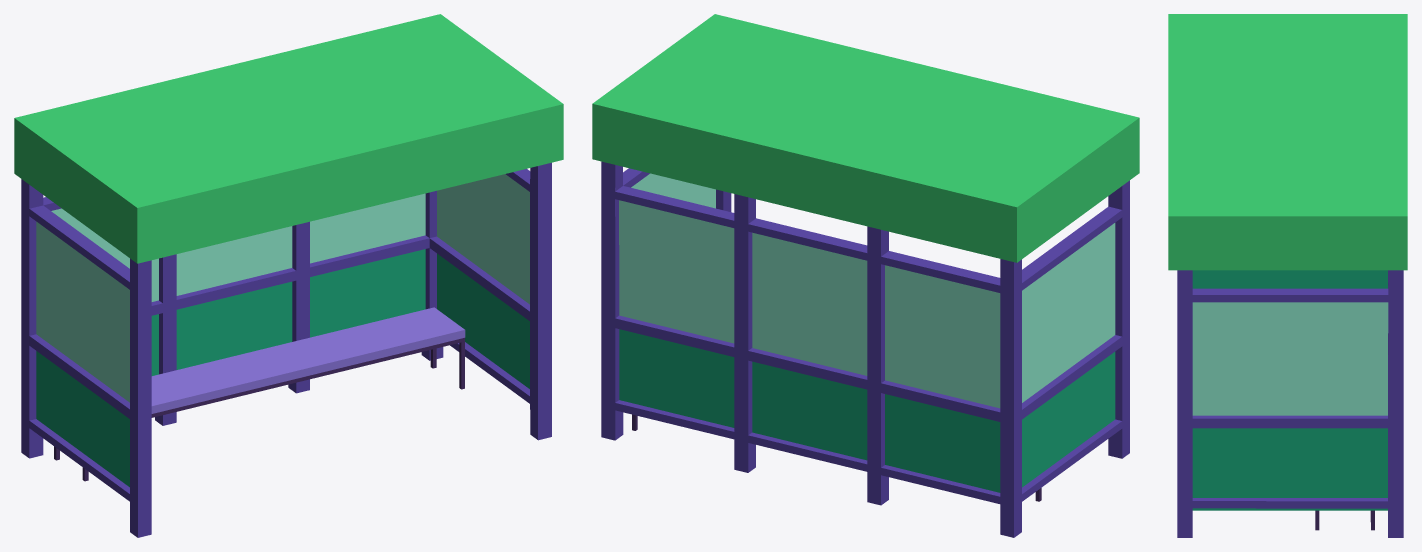
File: BusStop.fbx
The picture shows the model from 3 angles, left to right: view 1: azimuth 30°, elevation 25°; view 2: azimuth 150°, elevation 25°; view 3: azimuth 270°, elevation 25°; orthographic projection. The views are drawn at different scales.
Parts seen in each view (by area): view 1: BusStop; view 2: BusStop; view 3: BusStop.
Boxes of the visible parts, x1,y1,x2,y2 form: BusStop: (14,14,563,537); BusStop: (592,14,1139,537); BusStop: (1168,14,1407,537).
Bounding box in the file's own units: 400 × 300 × 200.
